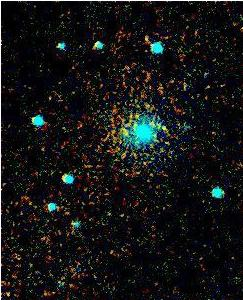star: (147, 113, 177, 143)
